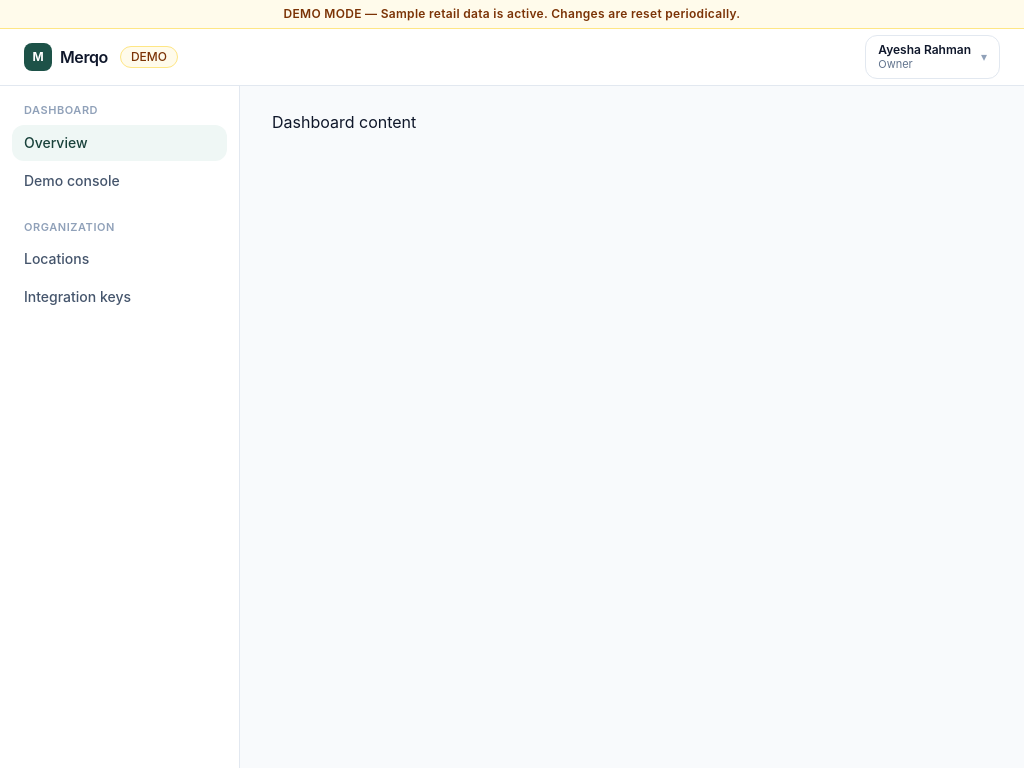
it: the sign out › ends the session on the server and sends the user to the login screen
Check: the text "Ayesha Rahman" is shown, box 878,42 -> 971,58
Click the button "Ayesha Rahman Owner ▾": (933, 57) 865,35 -> 1000,79
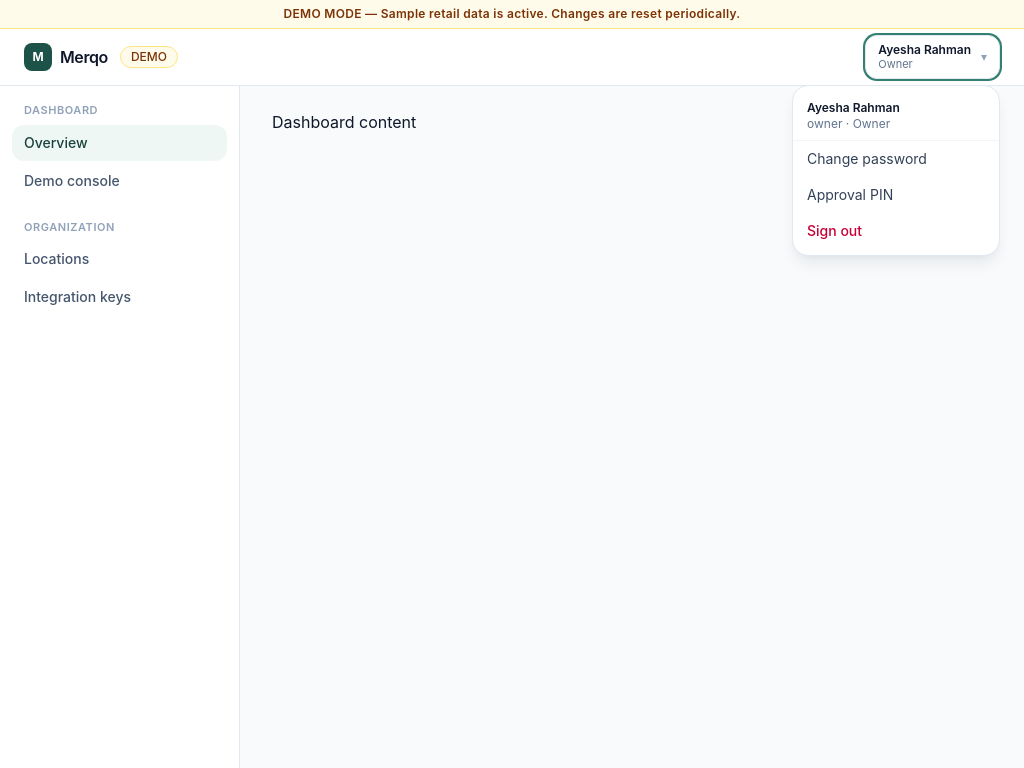
Click the menu item "Sign out": (896, 231) 793,213 -> 999,249
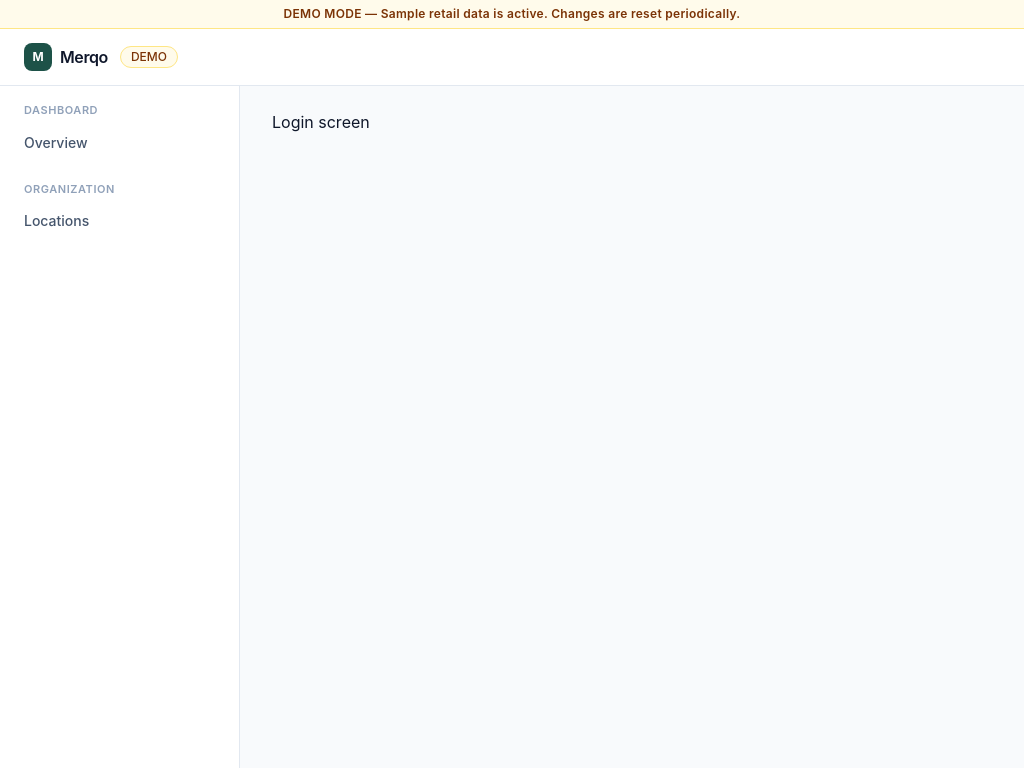
Check: the text "Login screen" is shown, box 272,112 -> 370,132
Check: the button "Ayesha Rahman" is gone
